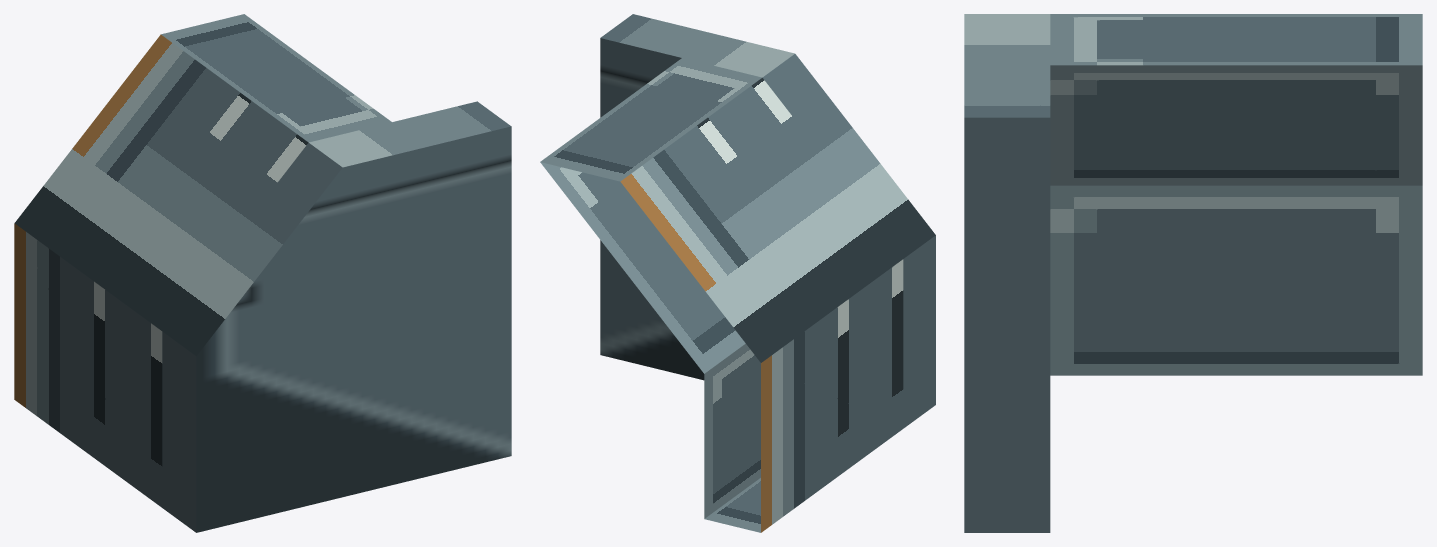
The model's file is casing_d5_rear_x-2_y1.obj.
The picture shows the model from 3 angles, left to right: view 1: azimuth 30°, elevation 25°; view 2: azimuth 150°, elevation 25°; view 3: azimuth 270°, elevation 25°; orthographic projection. The views are drawn at different scales.
Parts seen in each view (by area): view 1: d5_rear_x-2_y1; view 2: d5_rear_x-2_y1; view 3: d5_rear_x-2_y1.
Part boxes in pixels (left/top/right/bottom): d5_rear_x-2_y1: left=14, top=14, right=511, bottom=532; d5_rear_x-2_y1: left=540, top=14, right=935, bottom=532; d5_rear_x-2_y1: left=964, top=14, right=1422, bottom=532.
Size of the model in its own units: 1 by 1 by 1.
